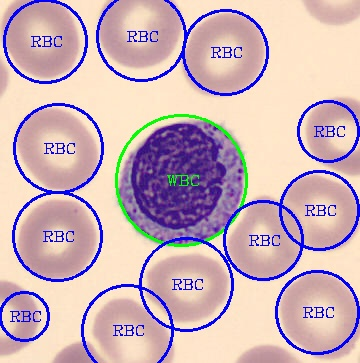RBC: (180, 9, 267, 99), (14, 104, 101, 193), (277, 267, 358, 360), (14, 195, 99, 281), (225, 192, 304, 282), (142, 249, 230, 325), (1, 0, 82, 80), (279, 172, 358, 253), (95, 0, 183, 72), (90, 295, 176, 362), (302, 94, 358, 178)
WBC: (116, 115, 245, 245)
